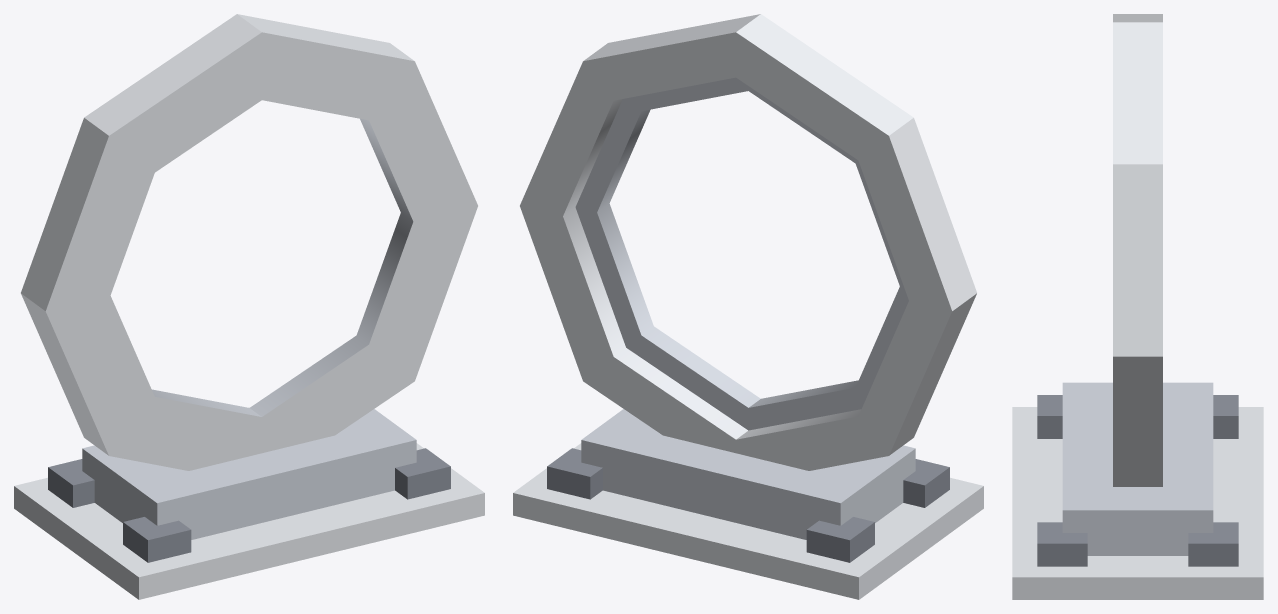
The model's file is gate_simple.glb.
The picture shows the model from 3 angles, left to right: view 1: azimuth 30°, elevation 25°; view 2: azimuth 150°, elevation 25°; view 3: azimuth 270°, elevation 25°; orthographic projection.
Parts seen in each view (by area): view 1: gate_simple; view 2: gate_simple; view 3: gate_simple.
Boxes of the visible parts, x1,y1,x2,y2 form: gate_simple: [14, 14, 484, 599]; gate_simple: [513, 14, 983, 599]; gate_simple: [1012, 14, 1263, 599].
Size of the model in its own units: 1 by 1.08 by 0.5.
1 material, 1 textured.
